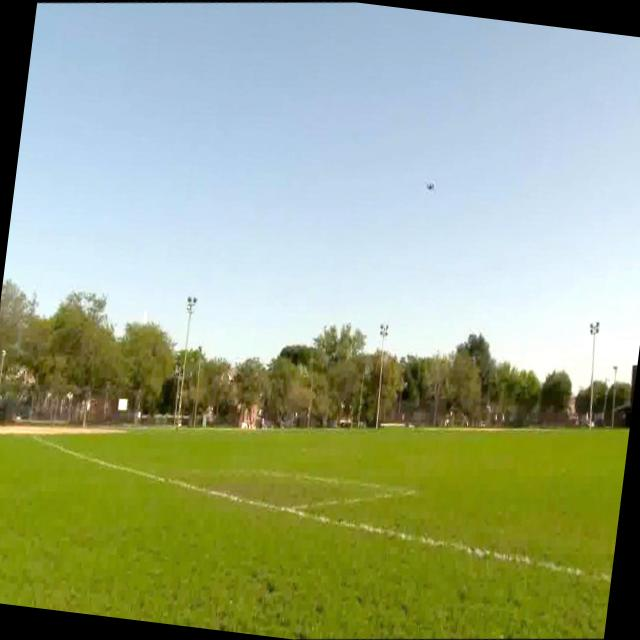drone: (418, 168, 441, 201)
